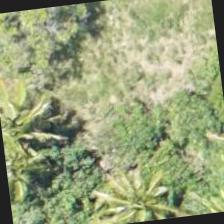Kelapa_Sawit: (79, 151, 177, 223), (0, 80, 64, 177)
